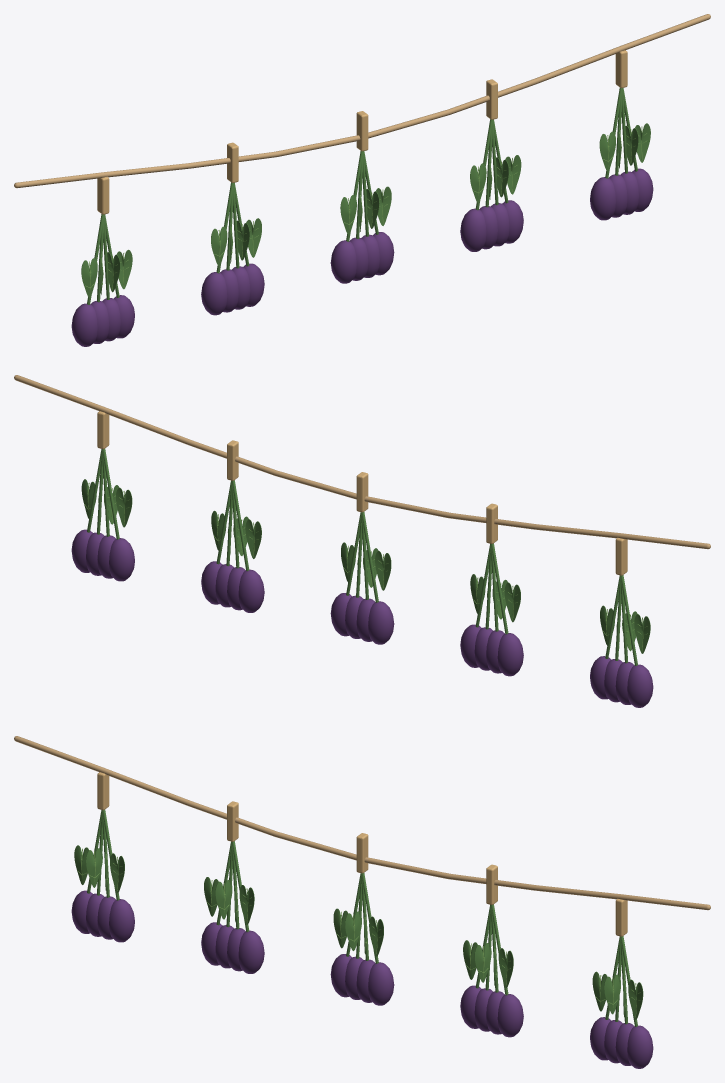
File: drying_line.glb
The picture shows the model from 3 angles, top to bottom: view 1: azimuth 30°, elevation 25°; view 2: azimuth 150°, elevation 25°; view 3: azimuth 330°, elevation 25°; orthographic projection.
Parts seen in each view (by area): view 1: Cord, Dried_bloom, Dried_bloom.008, Dried_bloom.004, Dried_bloom.012, Dried_bloom.016, Dried_bloom.003, Dried_bloom.007, Dried_bloom.011, Dried_bloom.015, Dried_bloom.019, Dried_bloom.009; view 2: Cord, Dried_bloom, Dried_bloom.008, Dried_bloom.004, Dried_bloom.012, Dried_bloom.016, Dried_bloom.003, Dried_bloom.007, Dried_bloom.011, Dried_bloom.015, Dried_bloom.019, Dried_bloom.009; view 3: Cord, Dried_bloom.019, Dried_bloom.011, Dried_bloom.015, Dried_bloom.007, Dried_bloom.003, Dried_bloom.016, Dried_bloom.012, Dried_bloom.008, Dried_bloom.004, Dried_bloom, Dried_bloom.010.
Part boxes in pixels (bbox=[...]): Cord: bbox=[14, 14, 710, 188]; Dried_bloom: bbox=[71, 303, 97, 346]; Dried_bloom.008: bbox=[330, 240, 356, 283]; Dried_bloom.004: bbox=[201, 272, 227, 315]; Dried_bloom.012: bbox=[460, 208, 486, 251]; Dried_bloom.016: bbox=[590, 177, 615, 220]; Dried_bloom.003: bbox=[114, 295, 134, 338]; Dried_bloom.007: bbox=[243, 263, 264, 306]; Dried_bloom.011: bbox=[373, 232, 394, 275]; Dried_bloom.015: bbox=[502, 200, 523, 243]; Dried_bloom.019: bbox=[632, 168, 653, 211]; Dried_bloom.009: bbox=[350, 237, 368, 280]; Cord: bbox=[14, 375, 710, 549]; Dried_bloom: bbox=[627, 664, 653, 707]; Dried_bloom.008: bbox=[368, 601, 394, 644]; Dried_bloom.004: bbox=[497, 633, 523, 676]; Dried_bloom.012: bbox=[238, 569, 264, 612]; Dried_bloom.016: bbox=[109, 538, 134, 581]; Dried_bloom.003: bbox=[590, 656, 610, 699]; Dried_bloom.007: bbox=[460, 624, 481, 667]; Dried_bloom.011: bbox=[330, 593, 351, 636]; Dried_bloom.015: bbox=[201, 561, 222, 604]; Dried_bloom.019: bbox=[71, 529, 92, 572]; Dried_bloom.009: bbox=[356, 598, 374, 641]; Cord: bbox=[14, 736, 710, 910]; Dried_bloom.019: bbox=[627, 1025, 653, 1068]; Dried_bloom.011: bbox=[368, 962, 394, 1005]; Dried_bloom.015: bbox=[497, 994, 523, 1037]; Dried_bloom.007: bbox=[238, 930, 264, 973]; Dried_bloom.003: bbox=[109, 899, 134, 942]; Dried_bloom.016: bbox=[590, 1017, 610, 1060]; Dried_bloom.012: bbox=[460, 985, 481, 1028]; Dried_bloom.008: bbox=[330, 954, 351, 997]; Dried_bloom.004: bbox=[201, 922, 222, 965]; Dried_bloom: bbox=[71, 890, 92, 933]; Dried_bloom.010: bbox=[356, 959, 374, 1002].
Size of the model in its own units: 2.42 by 0.5989 by 0.0855.
